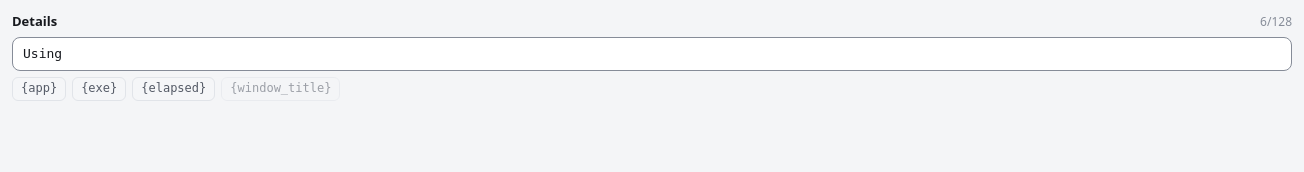
TemplateInput › inserts variables at the cursor
What coordinates should you click on to do the following:
click the button "{app}"
I would click on:
 (39, 89)
Its box is [12, 77, 66, 101].
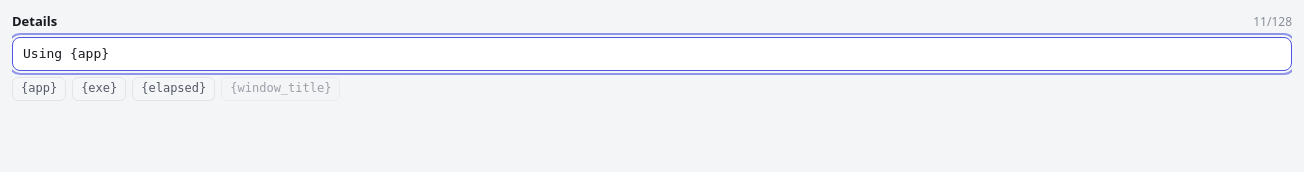
Expected: the field labelled "Details" holds "Using {app}", [12, 37, 1292, 71]
